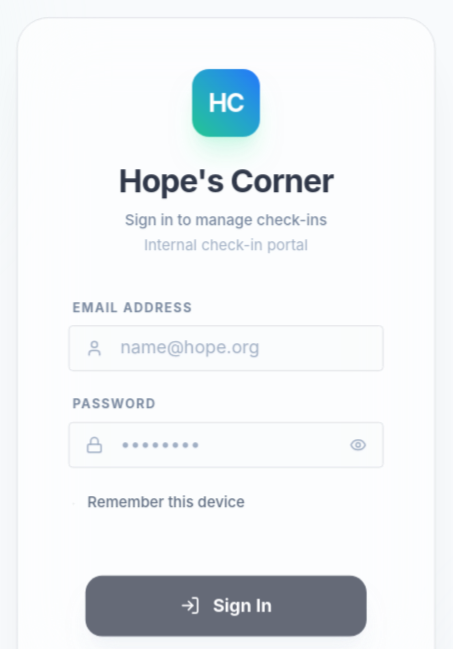
Test: Login › shows error message on login failure
Type "wrong@example.com" into the field labelled "Email Address".
click(226, 348); type("wrong@example.com")  # box [68,325,384,371]
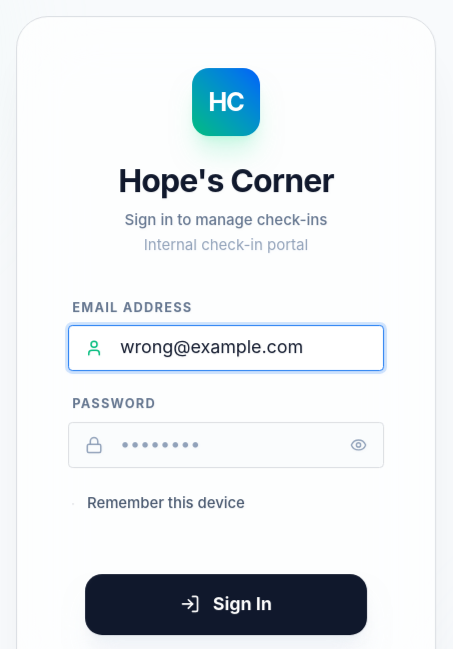
Type "wrongpass" into the password field labelled "Password".
click(226, 445); type("wrongpass")  # box [68,422,384,468]
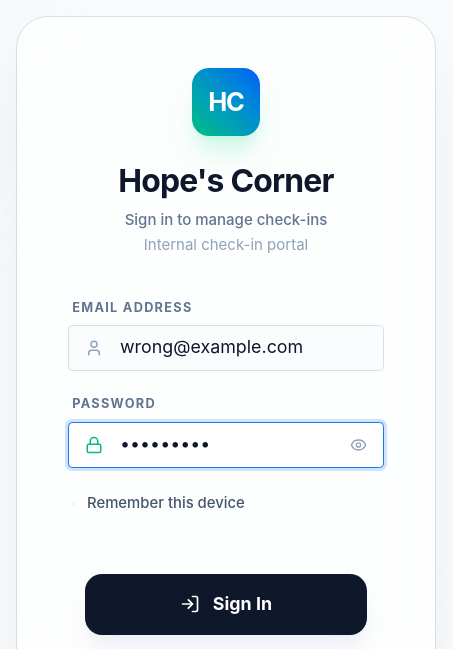
Click the button "Sign In".
click(226, 604)  # box [68,565,384,643]
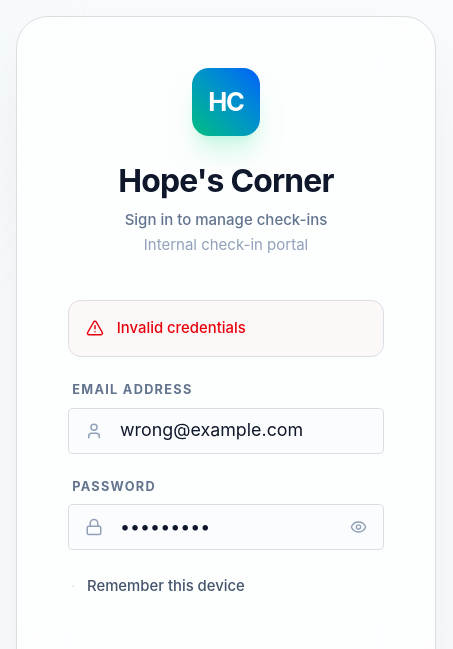
Now the text "Invalid credentials" is shown, box [117,318,246,339]
